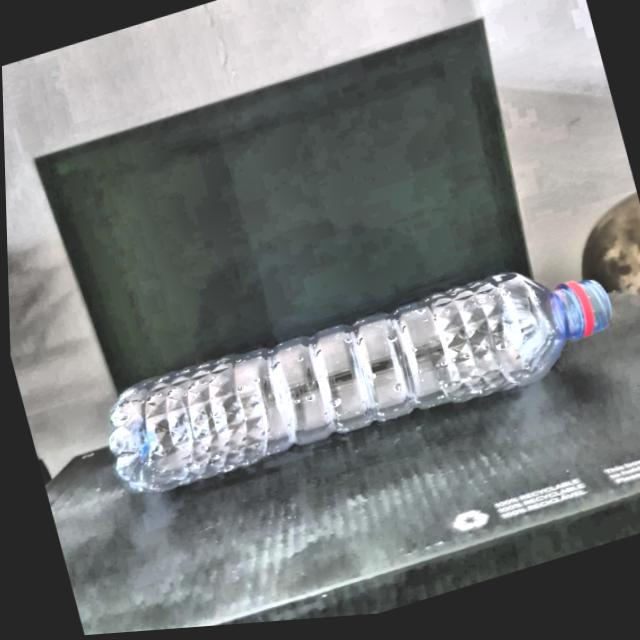Bottles: (79, 227, 640, 531)
